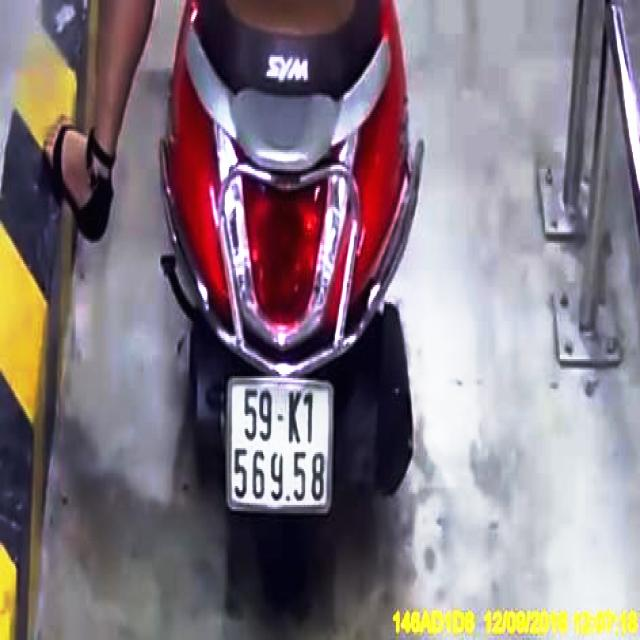license_plate: (230, 384, 332, 510)
